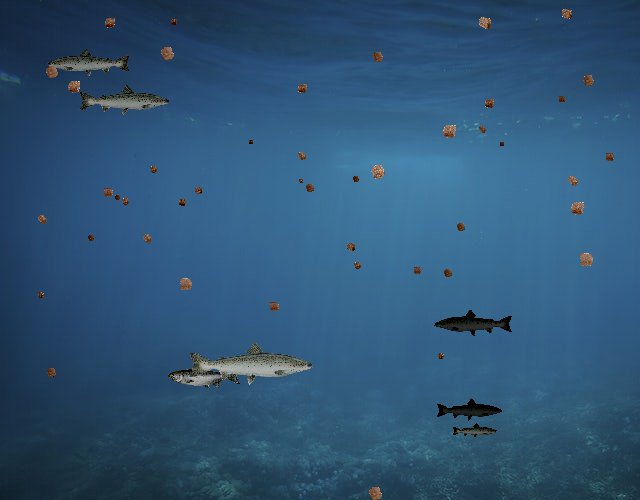Fish: (186, 340, 315, 386), (77, 84, 171, 118), (46, 47, 132, 78), (433, 309, 514, 338), (168, 363, 241, 389), (435, 397, 503, 422), (451, 423, 498, 440)
Pellet: (435, 117, 464, 146), (563, 195, 591, 223), (471, 9, 498, 36), (576, 68, 600, 92), (292, 79, 313, 100), (451, 218, 470, 237), (349, 258, 366, 275), (34, 288, 48, 302)
